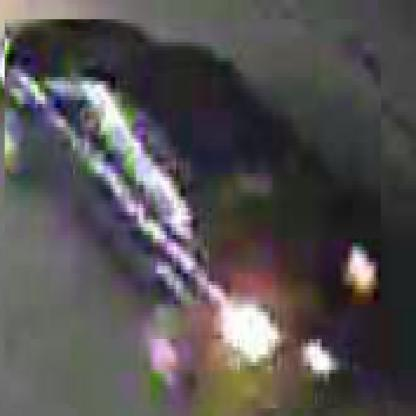car: (3, 20, 382, 413)
